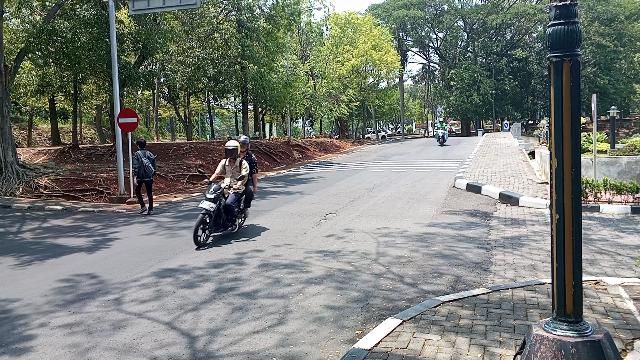helm: (227, 141, 242, 158), (240, 137, 252, 154)
motor: (195, 181, 250, 248)
